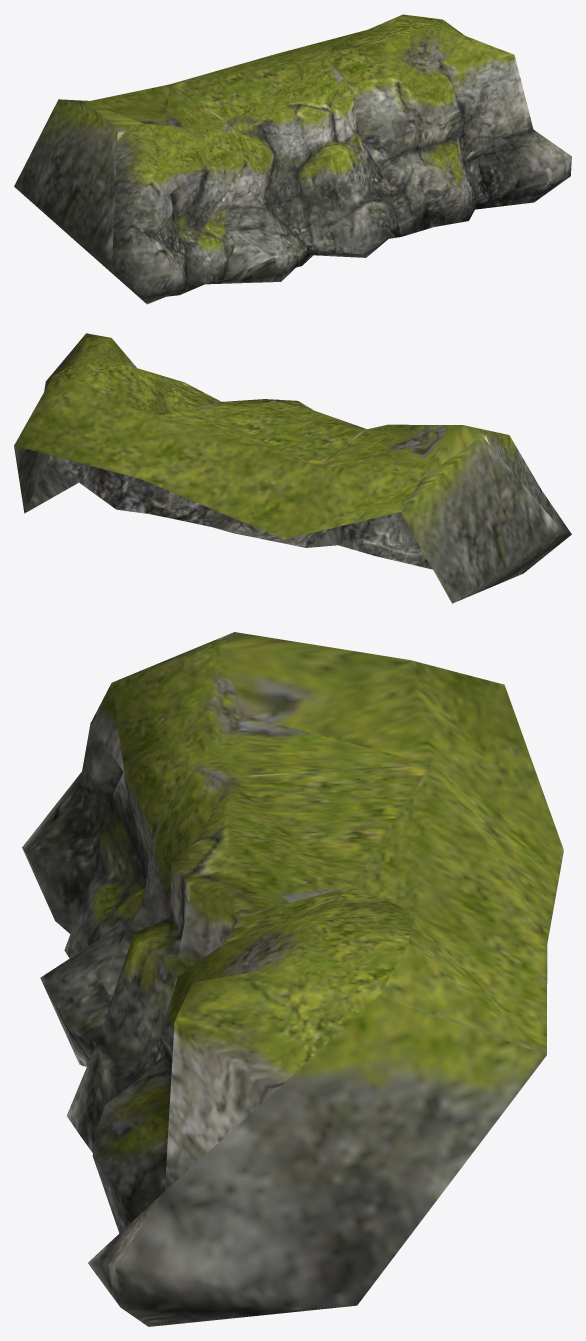
File: cliff.fbx
The picture shows the model from 3 angles, top to bottom: view 1: azimuth 30°, elevation 25°; view 2: azimuth 150°, elevation 25°; view 3: azimuth 270°, elevation 25°; orthographic projection. The views are drawn at different scales.
Visible parts, largest first — view 1: Object_2; view 2: Object_2; view 3: Object_2.
Part boxes in pixels (x1,y1,x2,y2): Object_2: [14, 14, 571, 304]; Object_2: [14, 333, 571, 603]; Object_2: [22, 632, 563, 1326].
Bounding box in the file's own units: 3170 × 1088 × 1604.
